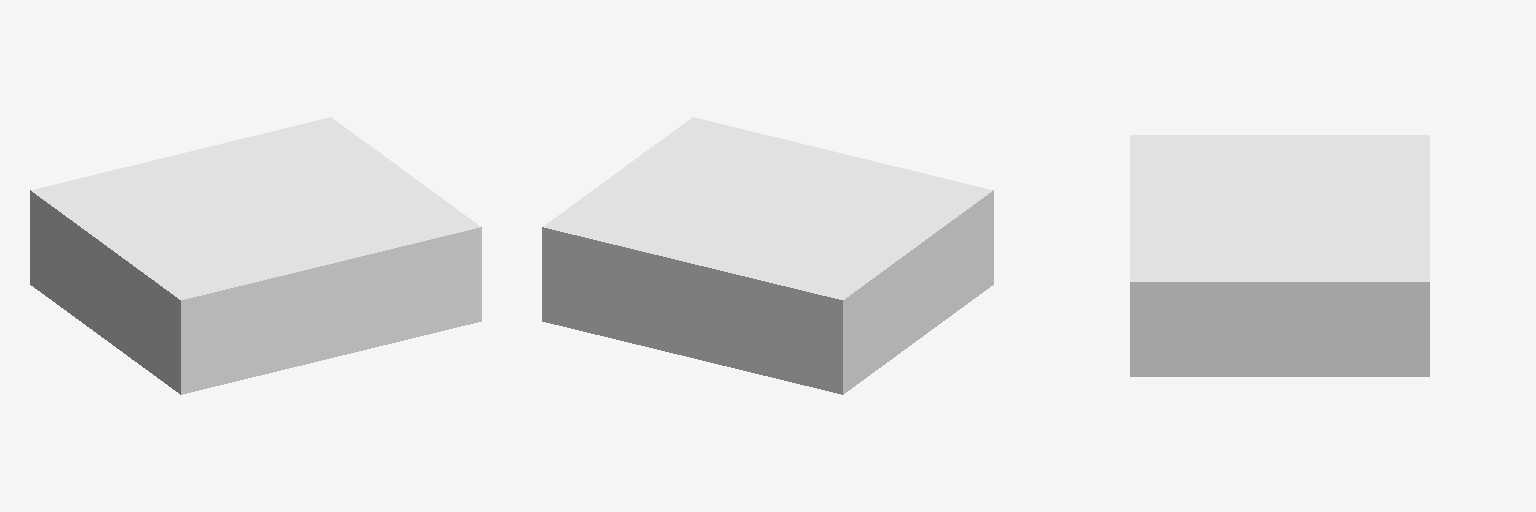
Rendered from CSGCombiner.obj.
The picture shows the model from 3 angles: view 1: azimuth 30°, elevation 25°; view 2: azimuth 150°, elevation 25°; view 3: azimuth 270°, elevation 25°; orthographic projection.
Visible parts, largest first — view 1: CSGCombiner; view 2: CSGCombiner; view 3: CSGCombiner.
Boxes of the visible parts, x1=… form: CSGCombiner: x1=30, y1=117, x2=481, y2=394; CSGCombiner: x1=542, y1=117, x2=993, y2=394; CSGCombiner: x1=1130, y1=135, x2=1429, y2=376.
Size of the model in its own units: 300 by 90 by 260.